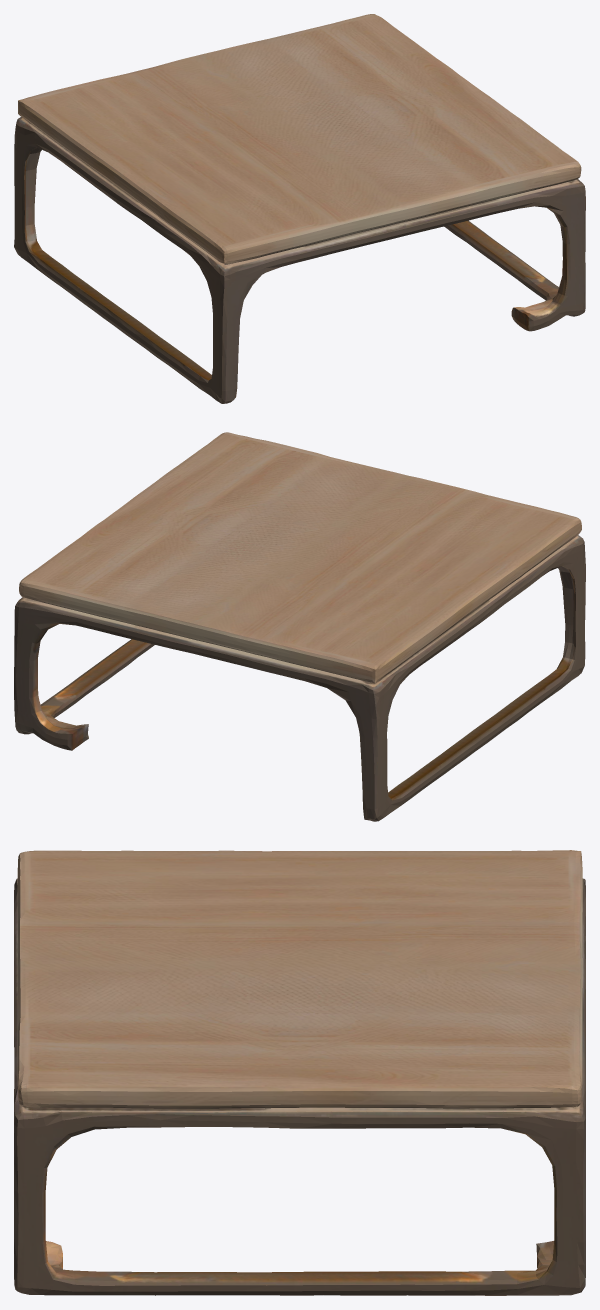
The model's file is coffee1.glb.
3 renders of one model, top to bottom at view 1: azimuth 30°, elevation 25°; view 2: azimuth 150°, elevation 25°; view 3: azimuth 270°, elevation 25°, orthographic. The views are drawn at different scales.
Parts seen in each view (by area): view 1: tripo_node_3711cdfd-1a6c-4e53-9550-6eebca8ca336; view 2: tripo_node_3711cdfd-1a6c-4e53-9550-6eebca8ca336; view 3: tripo_node_3711cdfd-1a6c-4e53-9550-6eebca8ca336.
Part boxes in pixels (box(x1,y1,x2,y2)): tripo_node_3711cdfd-1a6c-4e53-9550-6eebca8ca336: box(14, 14, 585, 403); tripo_node_3711cdfd-1a6c-4e53-9550-6eebca8ca336: box(14, 432, 585, 821); tripo_node_3711cdfd-1a6c-4e53-9550-6eebca8ca336: box(14, 850, 585, 1295).
Bounding box in the file's own units: 0.9998 × 0.4116 × 0.9999.
Materials: 1 (1 with a texture image).
